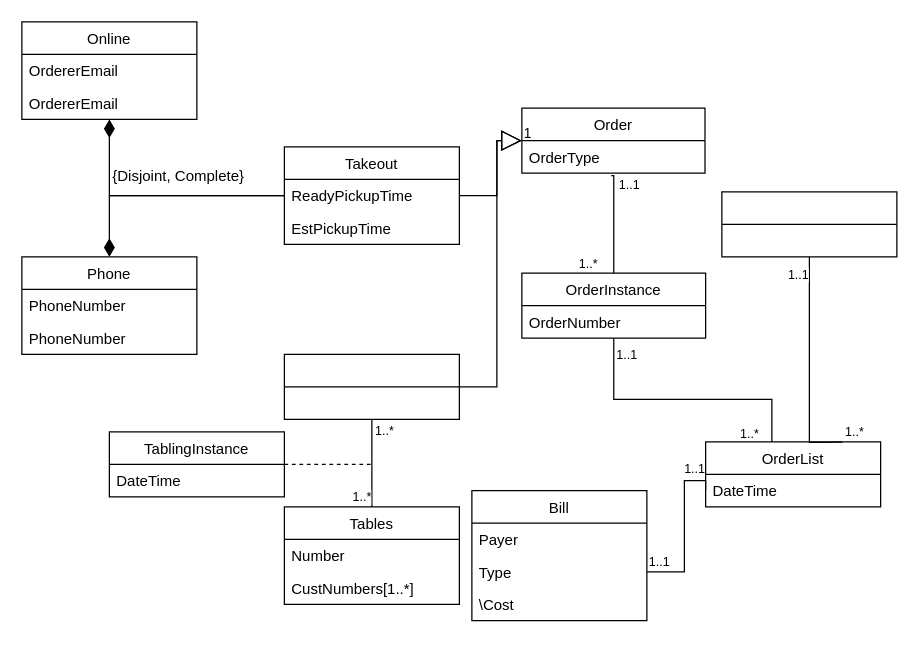
Image size: 919x646. Some labels were removed from this diagram. The shapes that lost their labels are listed below. From the top down, each one's centre as x and y in pixels, then its label:
At [809,224]: "MenuItem".
At [371,386]: "EatIn".
